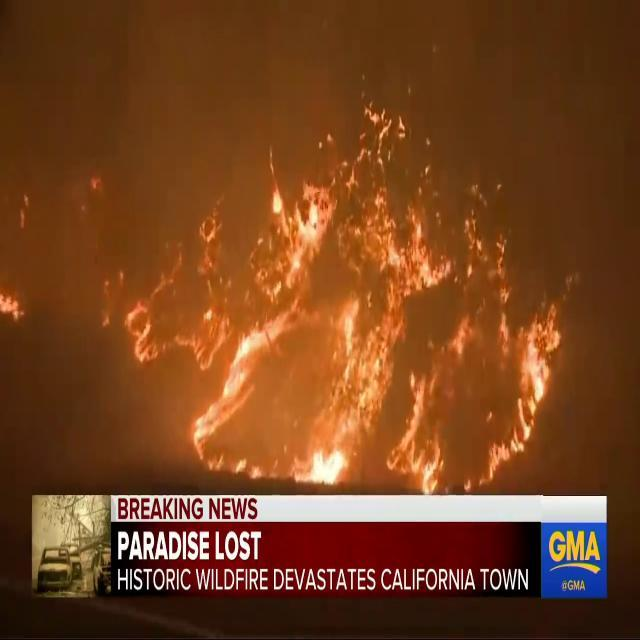Fire: (204, 203, 546, 464)
